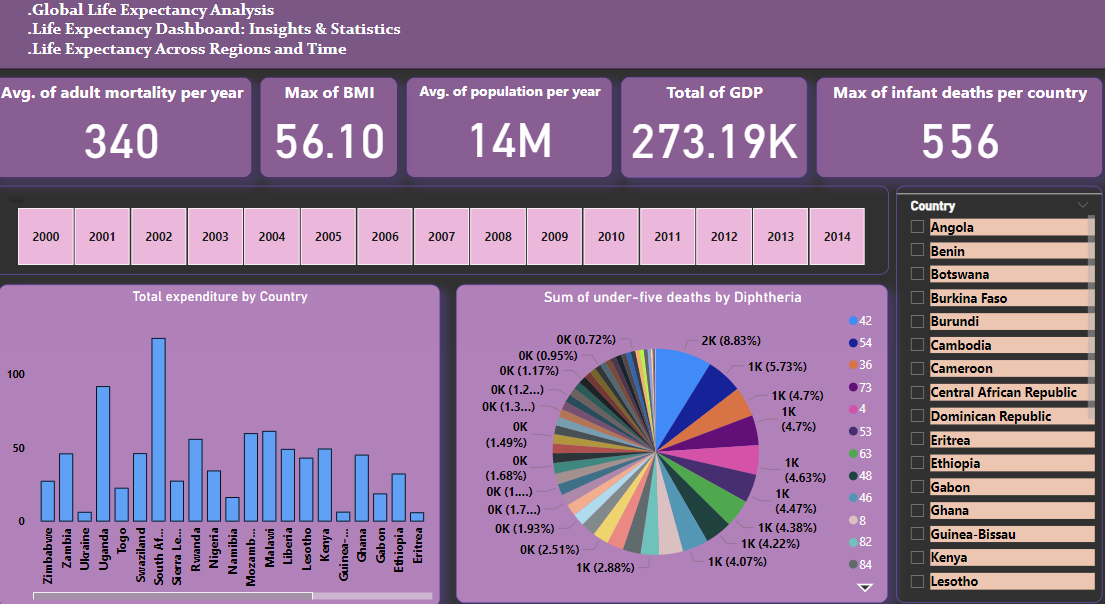

What the dashboard file says about the page in this screenshot:
{"tool":"powerbi","page":{"name":"Page 1","canvas":[1280,720],"ordinal":0},"visuals":[{"type":"card","title":"Max of infant deaths per country","fields":{"Values":["Life Expectancy Data_report.Max of infant deaths max per Country"]},"box":[942.8,102.7,327.7,114.9],"z":0},{"type":"card","title":"Avg. of population  per year","fields":{"Values":["Life Expectancy Data_report.Average of Population average per Year"]},"box":[474.5,102.7,236,114.9],"z":1000},{"type":"card","title":"Total of  GDP","fields":{"Values":["Sum(Life Expectancy Data_report.GDP)"]},"box":[720.2,102.7,212.8,114.9],"z":2000},{"type":"card","title":"Avg. of adult mortality per year","fields":{"Values":["Life Expectancy Data_report.Average of Adult Mortality average per Year"]},"box":[0,102.7,298.4,114.9],"z":3000},{"type":"card","title":"Max of BMI","fields":{"Values":["Max(Life Expectancy Data_report. BMI )"]},"box":[306.9,102.7,157.7,114.9],"z":4000},{"type":"columnChart","title":"Total expenditure by Country","fields":{"Category":["Life Expectancy Data_report.Country"],"Y":["Sum(Life Expectancy Data_report.Total expenditure)"]},"box":[8.2,340.3,505,369.1],"z":5000},{"type":"pieChart","fields":{"Category":["Life Expectancy Data_report.Diphtheria "],"Y":["Sum(Life Expectancy Data_report.under-five deaths )"]},"box":[531,340.3,494,363.6],"z":6000},{"type":"slicer","fields":{"Values":["Life Expectancy Data_report.Year"]},"box":[1.2,227.4,1024.7,101.5],"z":7000},{"type":"slicer","fields":{"Values":["Life Expectancy Data_report.Country"]},"box":[1034.5,227.4,236,476.9],"z":8000},{"type":"textbox","box":[0,8.6,1280.3,85.6],"z":9000}]}

Visuals, with their boxes in screenshot pixels (x1, y1, x2, y2), scaled from the page's 1280x720 canvas onto the 1105x604 screenshot:
"Max of infant deaths per country" card: left=814, top=86, right=1097, bottom=183
"Avg. of population  per year" card: left=410, top=86, right=613, bottom=183
"Total of  GDP" card: left=622, top=86, right=805, bottom=183
"Avg. of adult mortality per year" card: left=0, top=86, right=258, bottom=183
"Max of BMI" card: left=265, top=86, right=401, bottom=183
"Total expenditure by Country" columnChart: left=7, top=285, right=443, bottom=595
pieChart - Life Expectancy Data_report.Diphtheria  x Sum(Life Expectancy Data_report.under-five deaths ): left=458, top=285, right=885, bottom=590
slicer - Life Expectancy Data_report.Year: left=1, top=191, right=886, bottom=276
slicer - Life Expectancy Data_report.Country: left=893, top=191, right=1097, bottom=591
textbox: left=0, top=7, right=1104, bottom=79
